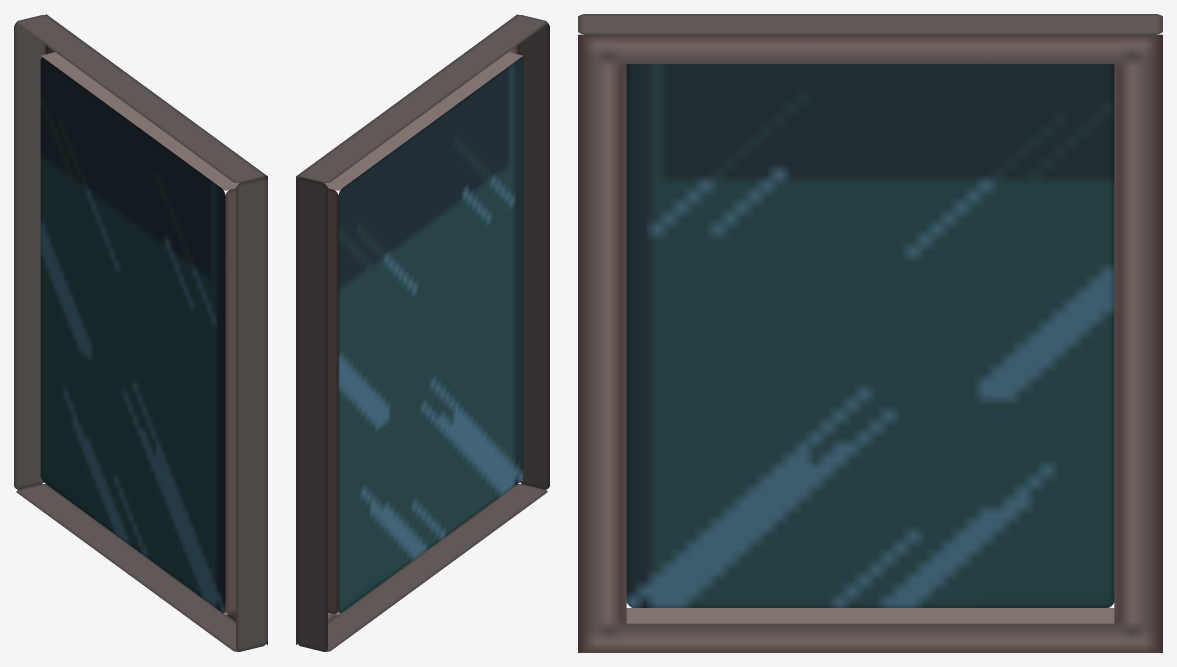
Rendered from WindowBrown.fbx.
3 views of the same model, side by side, from view 1: azimuth 30°, elevation 25°; view 2: azimuth 150°, elevation 25°; view 3: azimuth 270°, elevation 25° (orthographic). The views are drawn at different scales.
Visible parts, largest first — view 1: plane; view 2: plane; view 3: plane.
Part boxes in pixels (x1,y1,x2,y2): plane: [14, 14, 267, 651]; plane: [296, 14, 549, 651]; plane: [578, 14, 1162, 652].
Bounding box in the file's own units: 6.25 × 87.5 × 75.
Materials: 1 (1 with a texture image).
